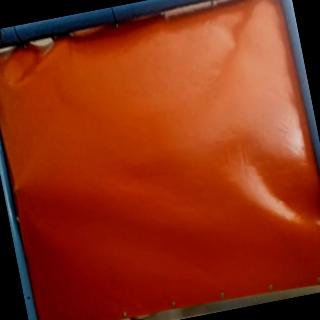Hit-hRxx: (10, 179, 23, 199)
